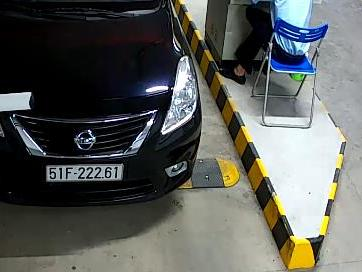number: (46, 165, 124, 181)
